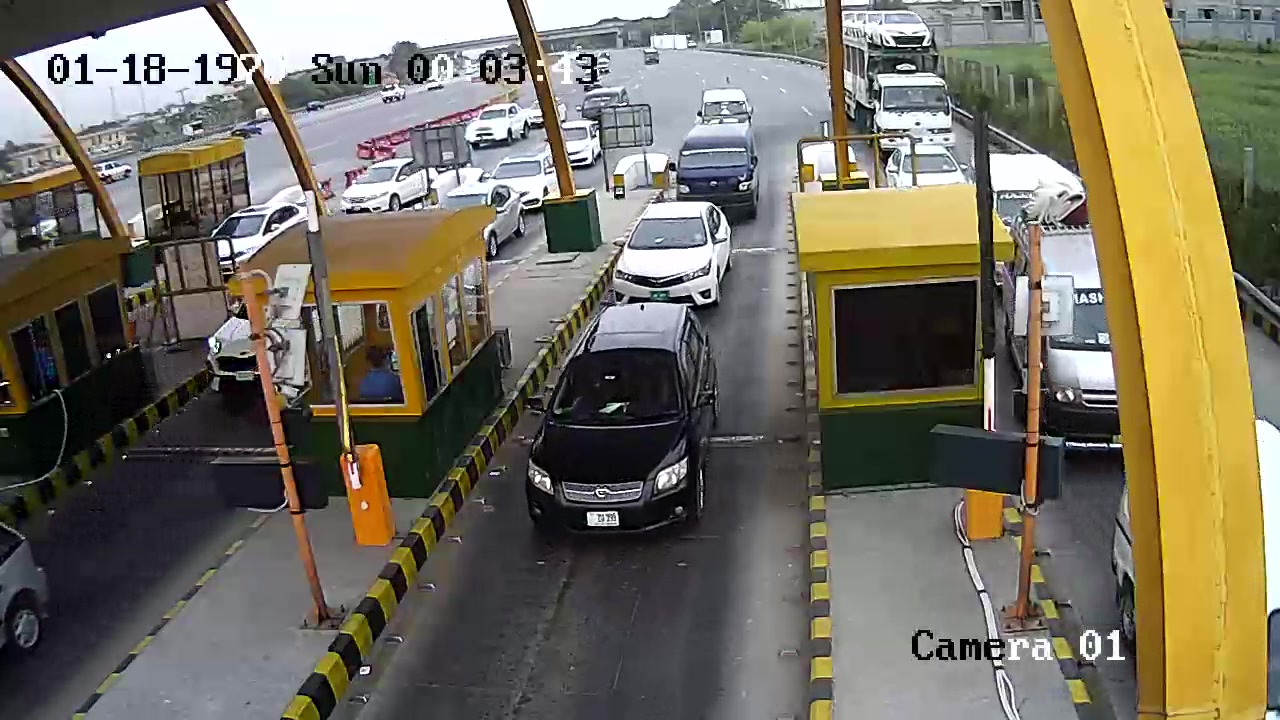F1: (517, 301, 728, 580)
